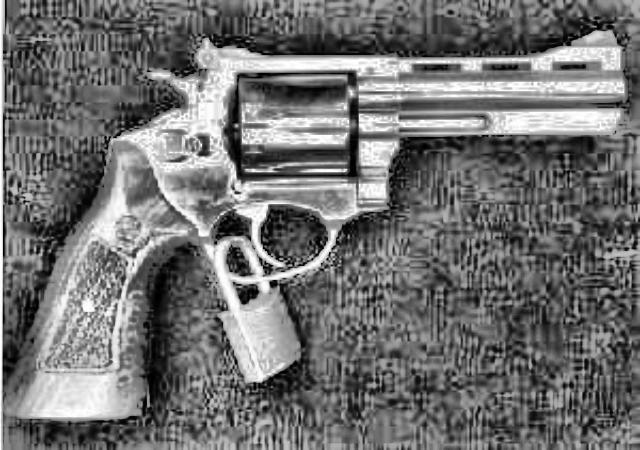pistol: (1, 26, 626, 418)
